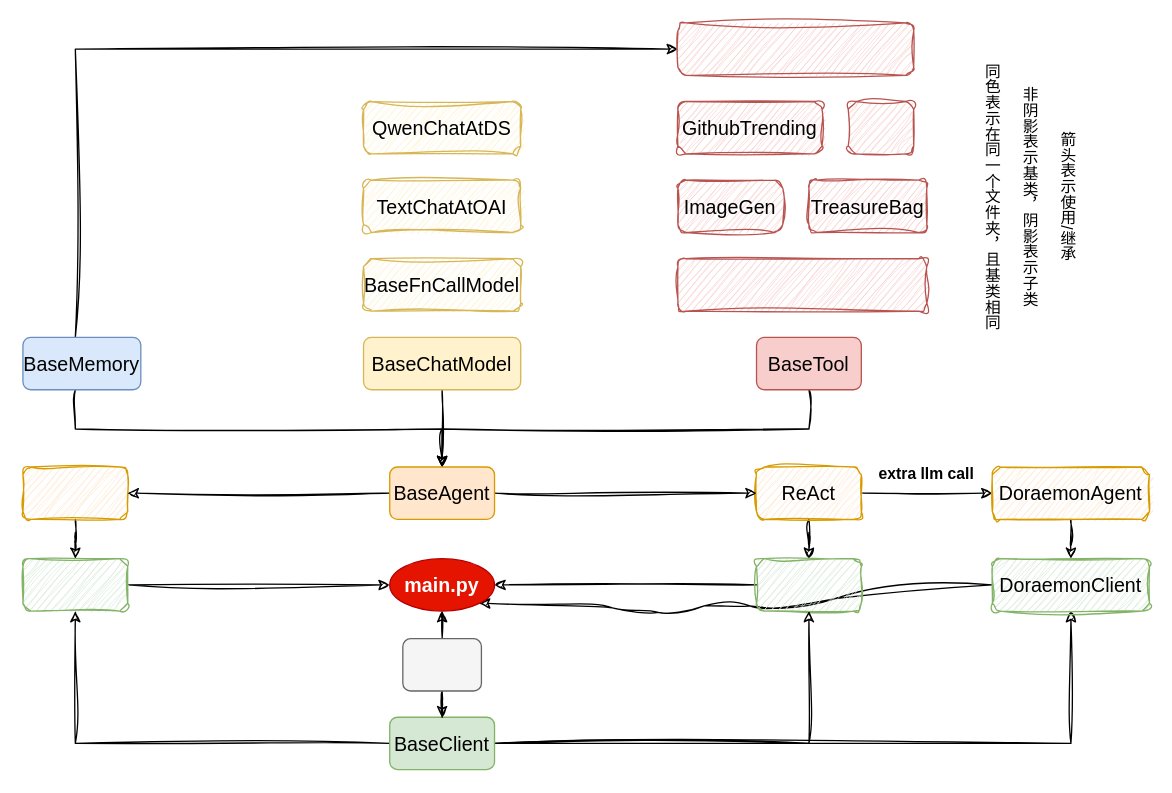
This 1172x793 diagram has some shape labels left out. The shapes that lost their labels are listed below. From the top down, each one's centre as x and y in pixels, then its label:
the point at 795,48: DoraemonMemory
the point at 880,127: ToDo
the point at 802,284: RemoveImageBackground
the point at 75,492: ChatAgent
the point at 75,584: ChatClient
the point at 808,584: ReActClient
the point at 441,664: PyQt5
